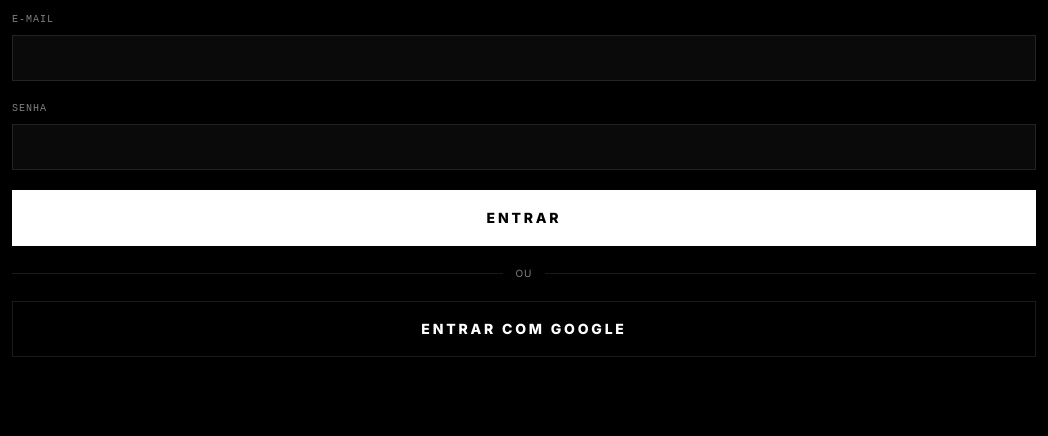
Test: SignInForm › traduz erro de credencial do Firebase
Type " ana@b.com " into the field labelled "E-mail".
click(524, 58); type(" ana@b.com ")  # box [12,35,1036,81]
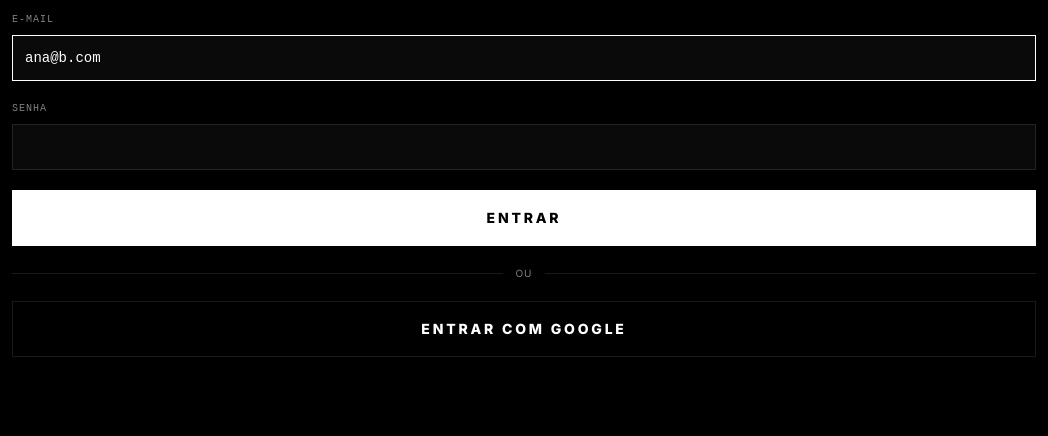
Type "segredo123" into the password field labelled "Senha".
click(524, 147); type("segredo123")  # box [12,124,1036,170]
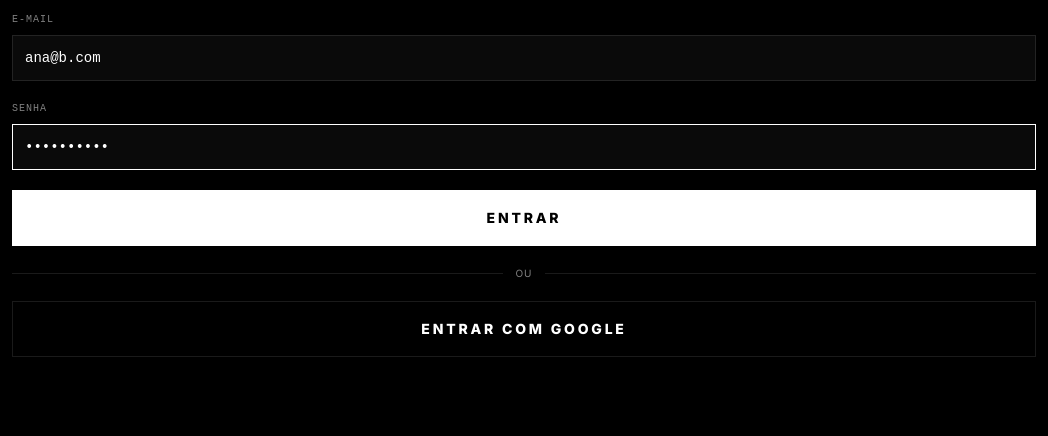
Click the button "Entrar".
click(524, 218)  # box [12,190,1036,246]
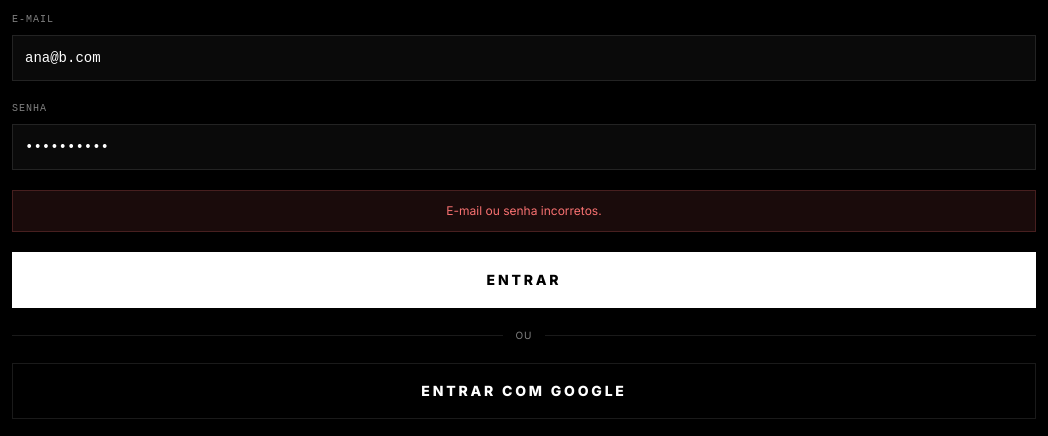
Expected: the message reads "E-mail ou senha incorretos.", [446,203,602,218]
